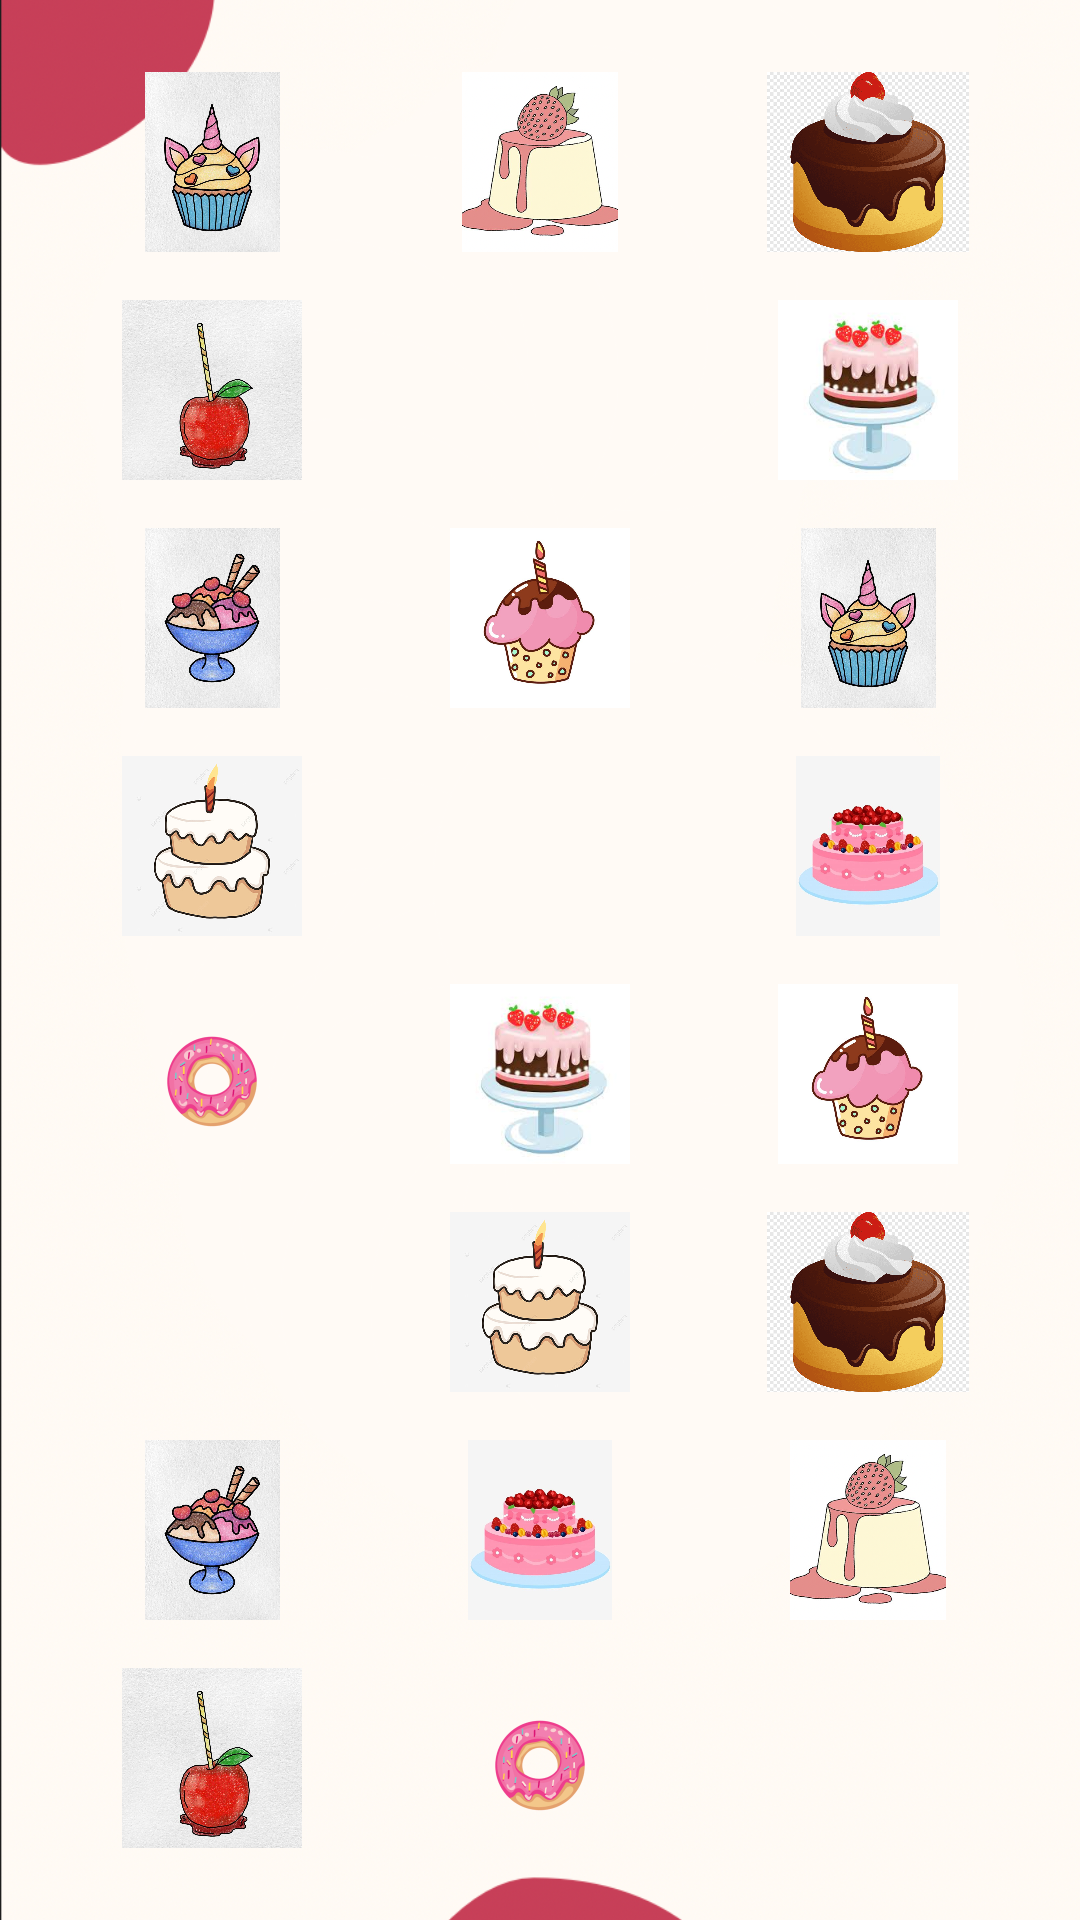

Icon bounding boxes for this 1080 × 1920 phone screenshot, format bbox(x1, y1, x2, y2):
birthday cupcake: bbox(484, 541, 595, 684), bbox(812, 997, 923, 1140)
birthdaycake: bbox(122, 756, 302, 936), bbox(450, 1212, 630, 1392)
choclate cake: bbox(767, 72, 964, 252), bbox(767, 1212, 964, 1392)
donut: bbox(167, 1036, 257, 1126), bbox(495, 1720, 585, 1810)
icecream: bbox(145, 528, 280, 708), bbox(145, 1440, 280, 1620)
